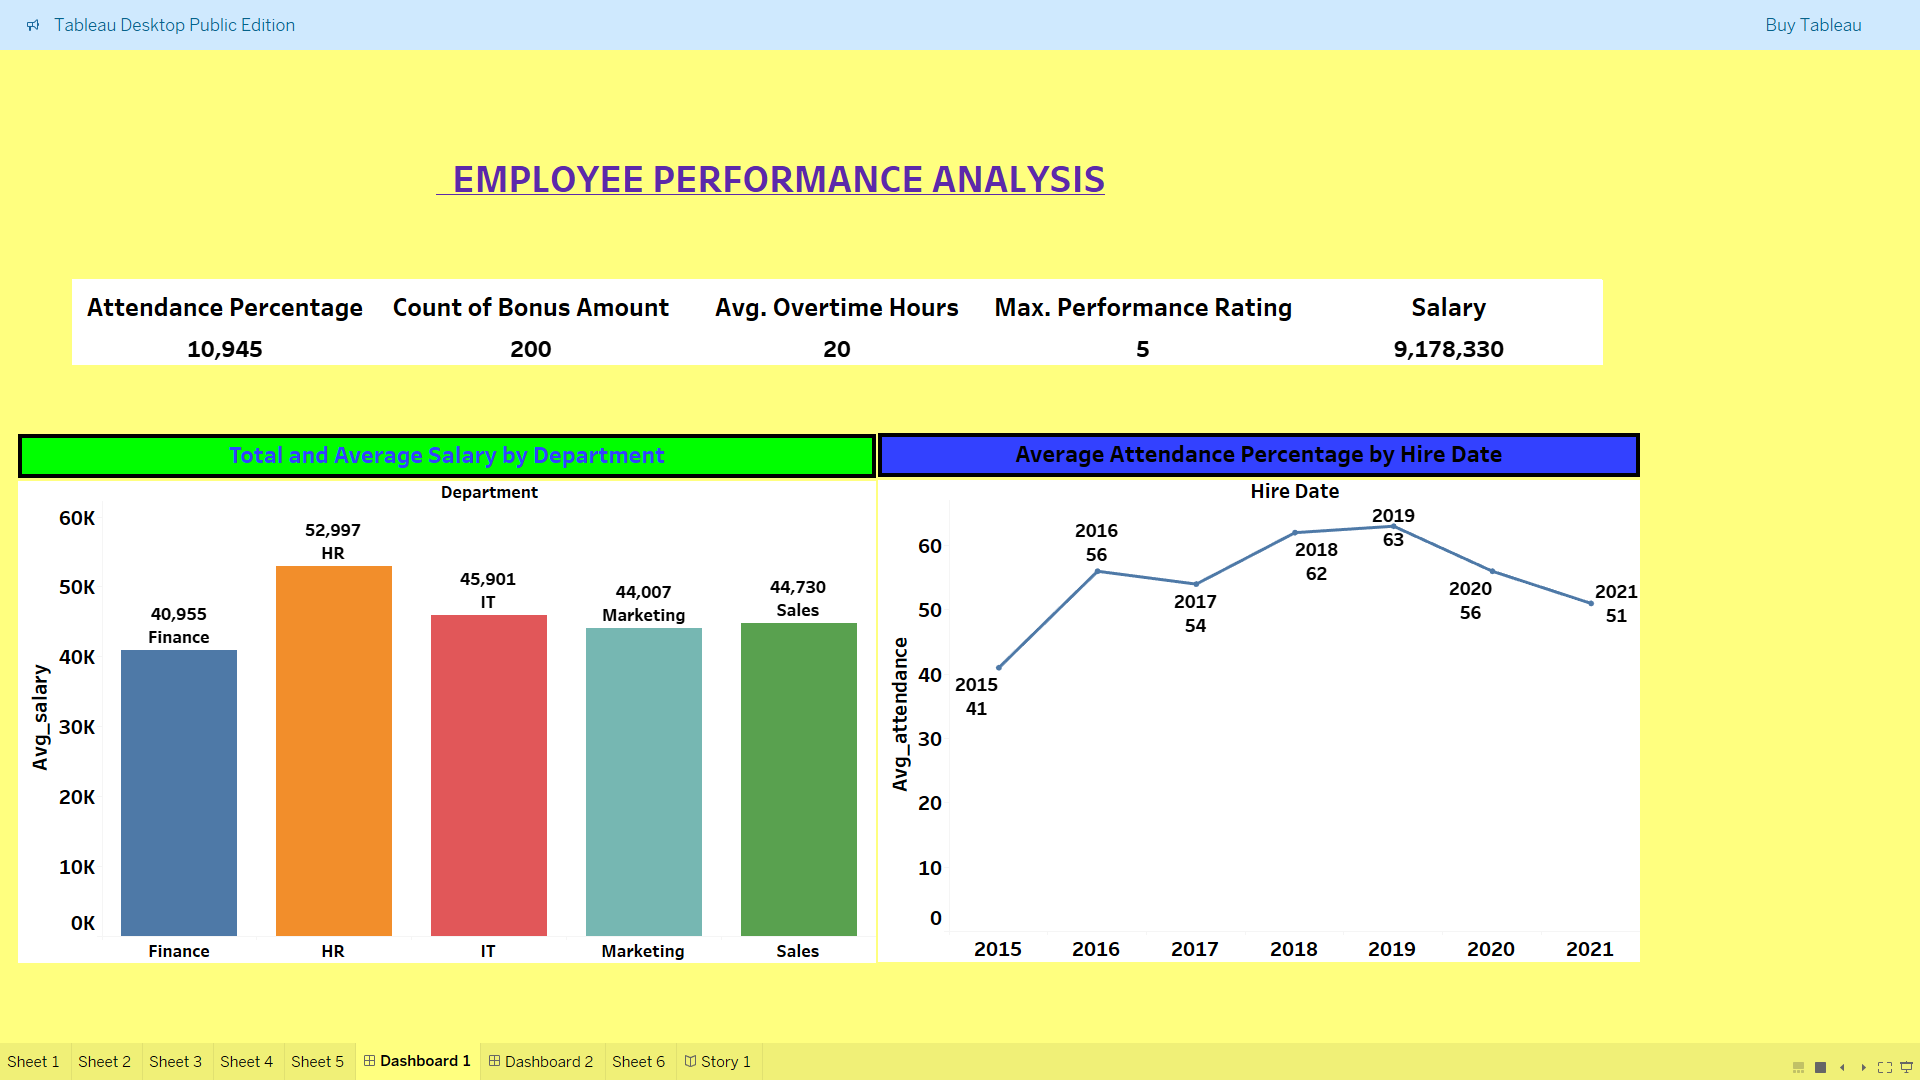

This screenshot's page, from the dashboard's own definition file:
{"tool":"tableau","page":{"name":"Dashboard 1","canvas":[1000,1000],"units":"permille","ordinal":0},"visuals":[{"type":"text","box":[164.1,12.8,475,115.2]},{"type":"worksheet","title":"Sheet 5","mark":"Automatic","box":[37.5,172.9,807.8,147.2]},{"type":"worksheet","title":"Sheet 2","mark":"Line","rows":["Calculation_471470637648949248"],"cols":["hire_date"],"box":[457.3,368.8,396.9,614.6]},{"type":"worksheet","title":"Sheet 1","mark":"Automatic","rows":["Calculation_1277333495651418113"],"cols":["department"],"box":[9.4,370,446.9,614.6]}]}

Visuals, with their boxes on the dashboard's canvas, which has no fixed pixel size, in thousandths of its width and height (x1, y1, x2, y2). These are canvas units, not pixel positions in the 1920x1080 screenshot, which may show the page scaled, cropped or inside an application window:
text: 164,13,639,128
"Sheet 5" worksheet: 38,173,845,320
"Sheet 2" worksheet (Line marks): 457,369,854,983
"Sheet 1" worksheet: 9,370,456,985
